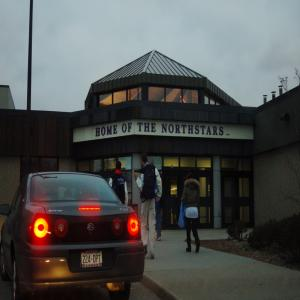Vehicle-registration-plate: (83, 250, 103, 268)
